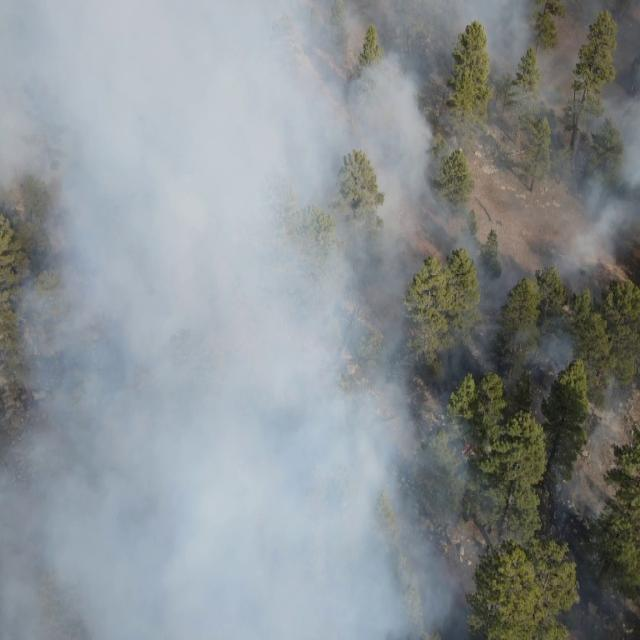fire: (461, 438, 479, 460)
smoke: (26, 204, 528, 460), (4, 0, 525, 198), (0, 457, 483, 640), (526, 0, 640, 285), (534, 330, 640, 531), (4, 285, 27, 451), (486, 482, 521, 554)
